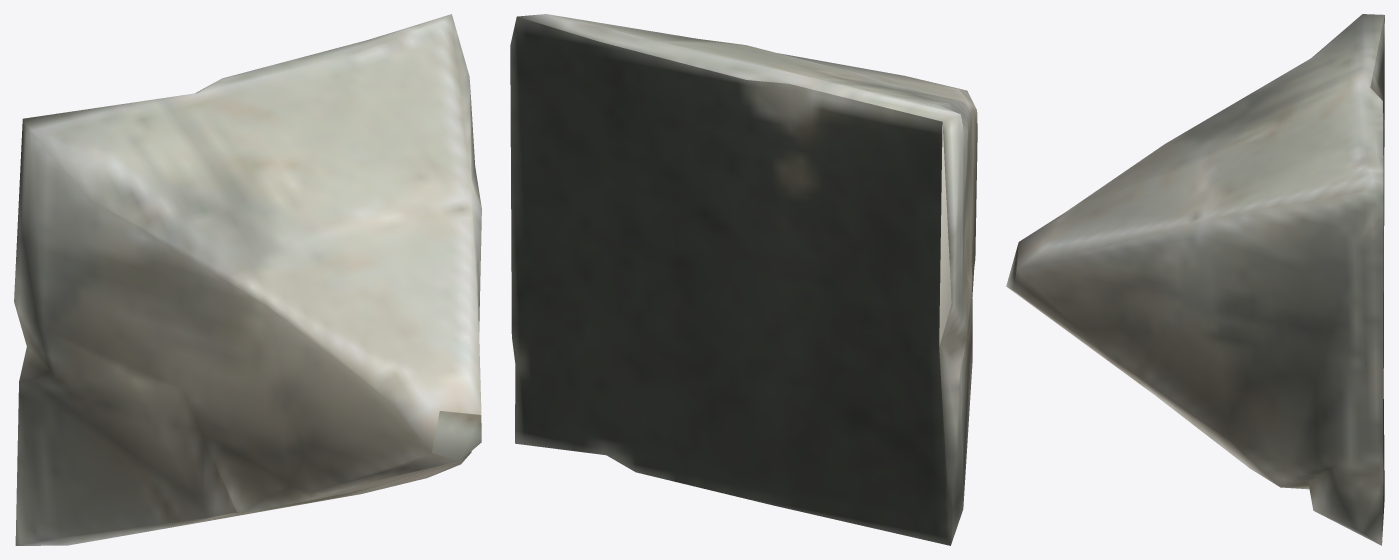
Rendered from Vd_Vulgrim_TrimTop_A.fbx.
The picture shows the model from 3 angles, left to right: view 1: azimuth 30°, elevation 25°; view 2: azimuth 150°, elevation 25°; view 3: azimuth 270°, elevation 25°; orthographic projection. The views are drawn at different scales.
Parts seen in each view (by area): view 1: Vd_Vulgrim_TrimTop_A; view 2: Vd_Vulgrim_TrimTop_A; view 3: Vd_Vulgrim_TrimTop_A.
Part boxes in pixels (<box>): Vd_Vulgrim_TrimTop_A: <box>14,14,481,545</box>; Vd_Vulgrim_TrimTop_A: <box>510,14,977,545</box>; Vd_Vulgrim_TrimTop_A: <box>1006,14,1384,545</box>.
Size of the model in its own units: 123 by 114 by 109.
